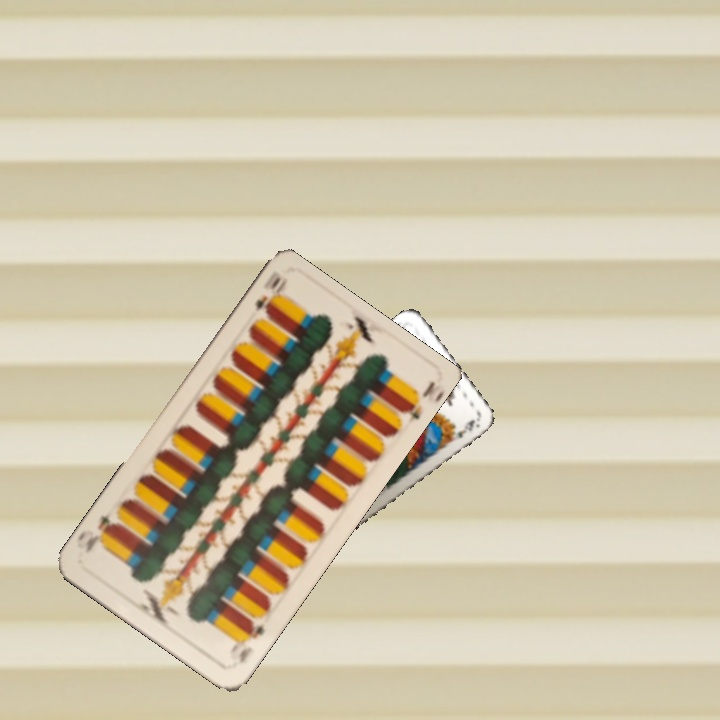E10: (225, 616, 267, 668), (251, 272, 290, 315)
